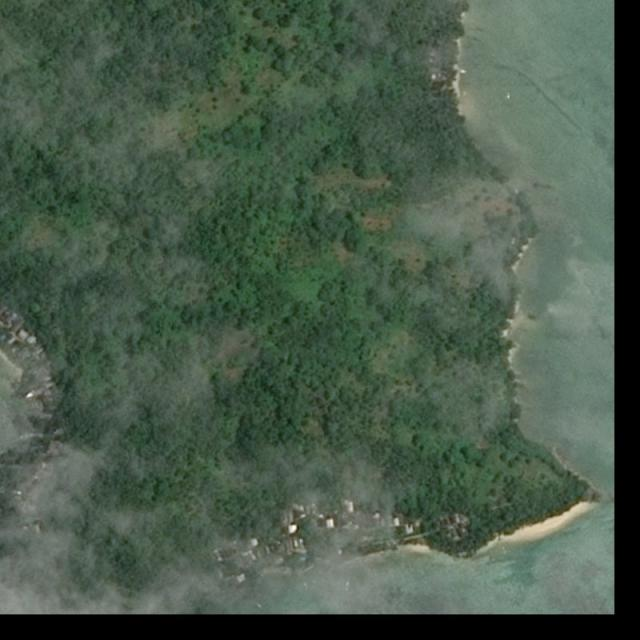ship: (507, 92, 510, 101)
